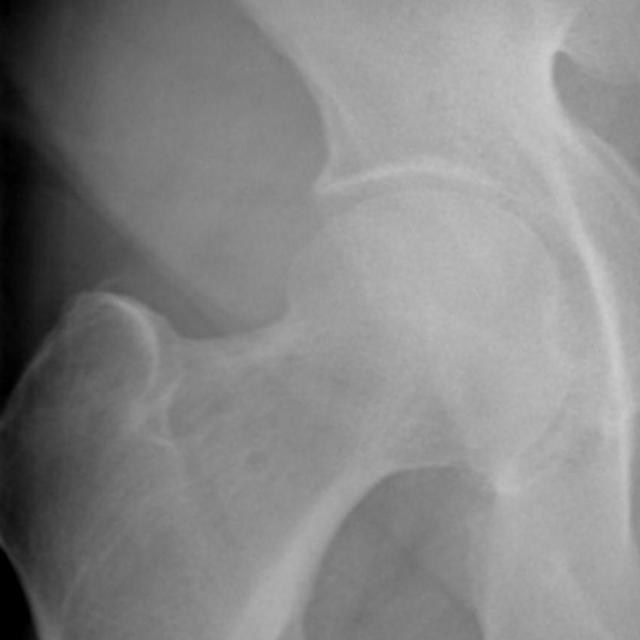Fitted_femural_head: (296, 186, 432, 296)
